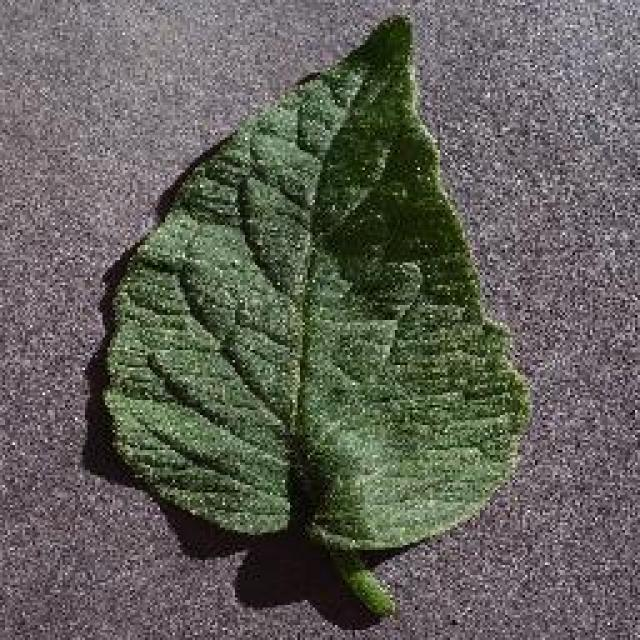Tomato healthy leaf: (100, 20, 522, 615)
